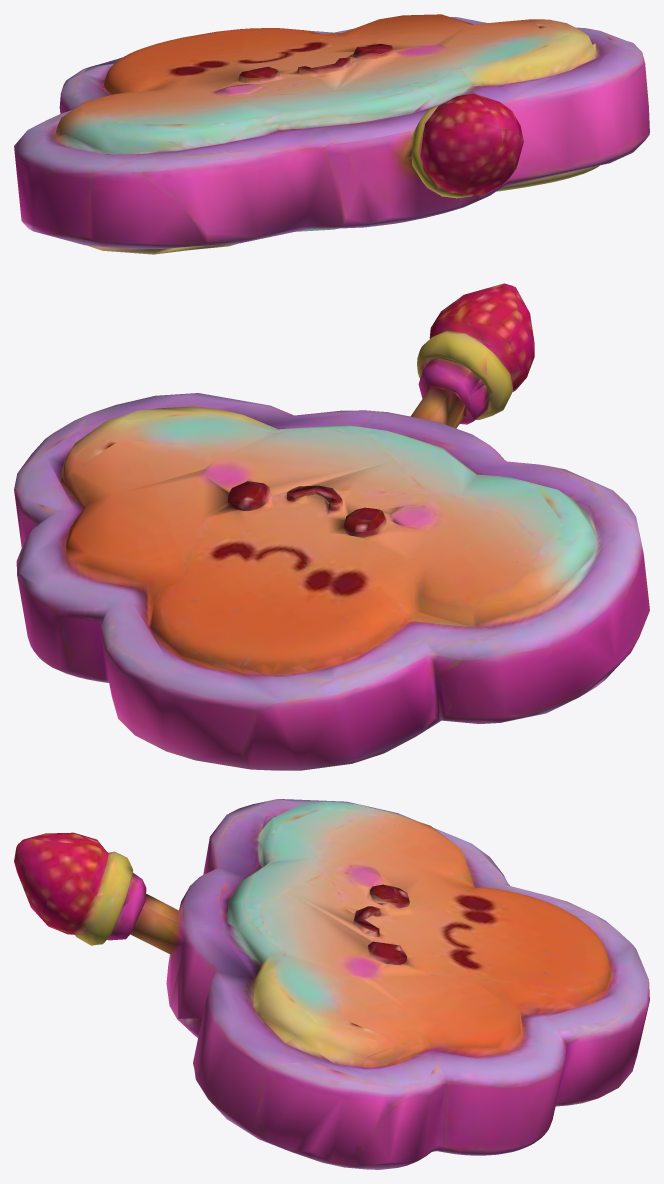
The picture shows the model from 3 angles, top to bottom: view 1: azimuth 30°, elevation 25°; view 2: azimuth 150°, elevation 25°; view 3: azimuth 270°, elevation 25°; orthographic projection. The views are drawn at different scales.
Parts seen in each view (by area): view 1: material; view 2: material; view 3: material.
Part boxes in pixels (x1,y1,x2,y2): material: (14, 14, 649, 254); material: (14, 283, 649, 770); material: (14, 799, 649, 1169).
Size of the model in its own units: 1 by 0.4009 by 0.9739.
1 material, 1 textured.
